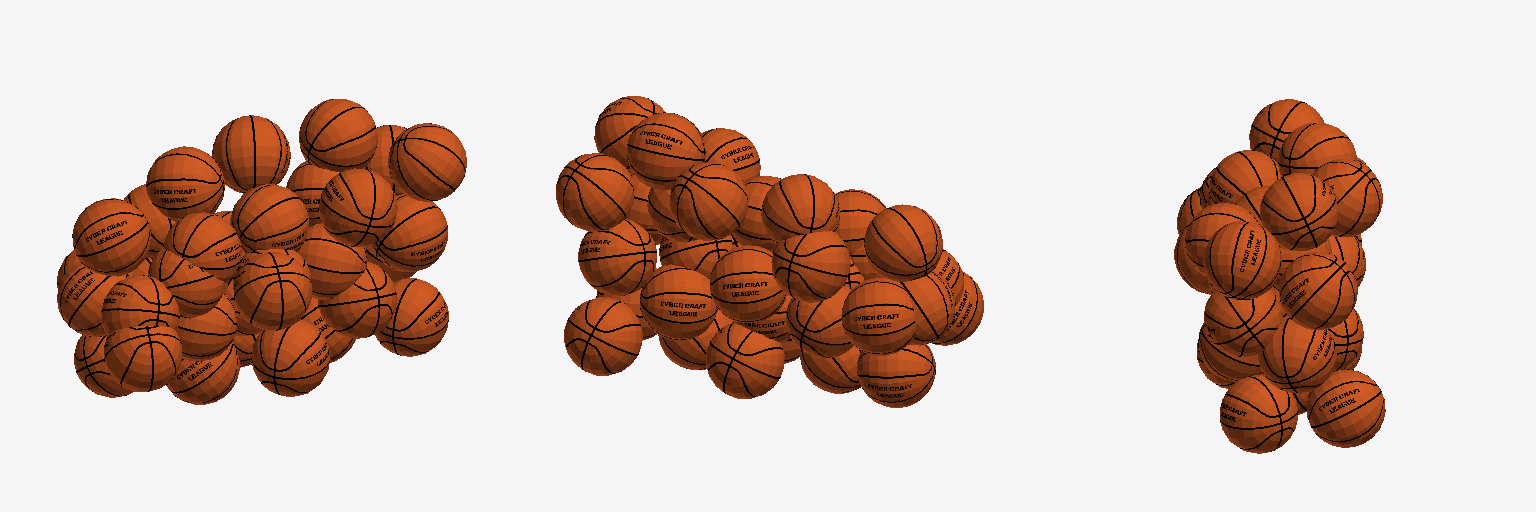
The picture shows the model from 3 angles: view 1: azimuth 30°, elevation 25°; view 2: azimuth 150°, elevation 25°; view 3: azimuth 270°, elevation 25°; orthographic projection.
Parts seen in each view (by area): view 1: ball_s.001; view 2: ball_s.001; view 3: ball_s.001.
Boxes of the visible parts, box(x1,y1,x2,y2) form: ball_s.001: box(57, 99, 466, 404); ball_s.001: box(556, 96, 983, 407); ball_s.001: box(1174, 99, 1385, 453).
Bounding box in the file's own units: 11 × 6.95 × 5.35.
Materials: 1 (1 with a texture image).